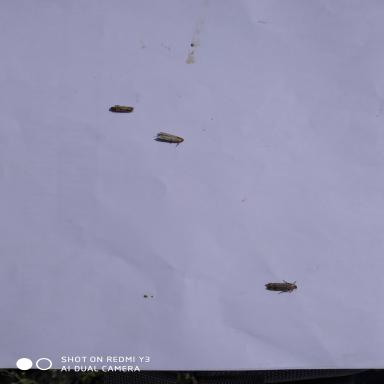pbw: (263, 278, 299, 296), (153, 131, 186, 149), (108, 103, 136, 115)
